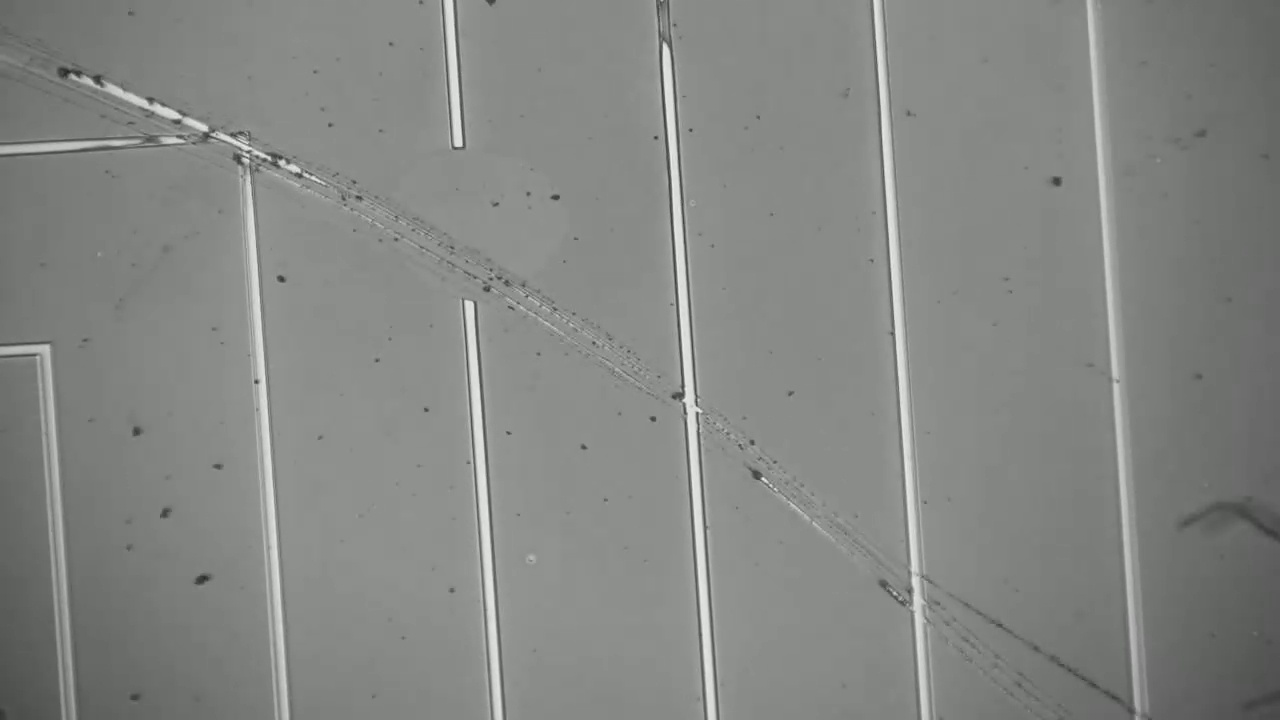gray_line: (646, 0, 685, 78)
open: (404, 116, 511, 356)
scratch: (274, 159, 1032, 706), (0, 16, 226, 138)
